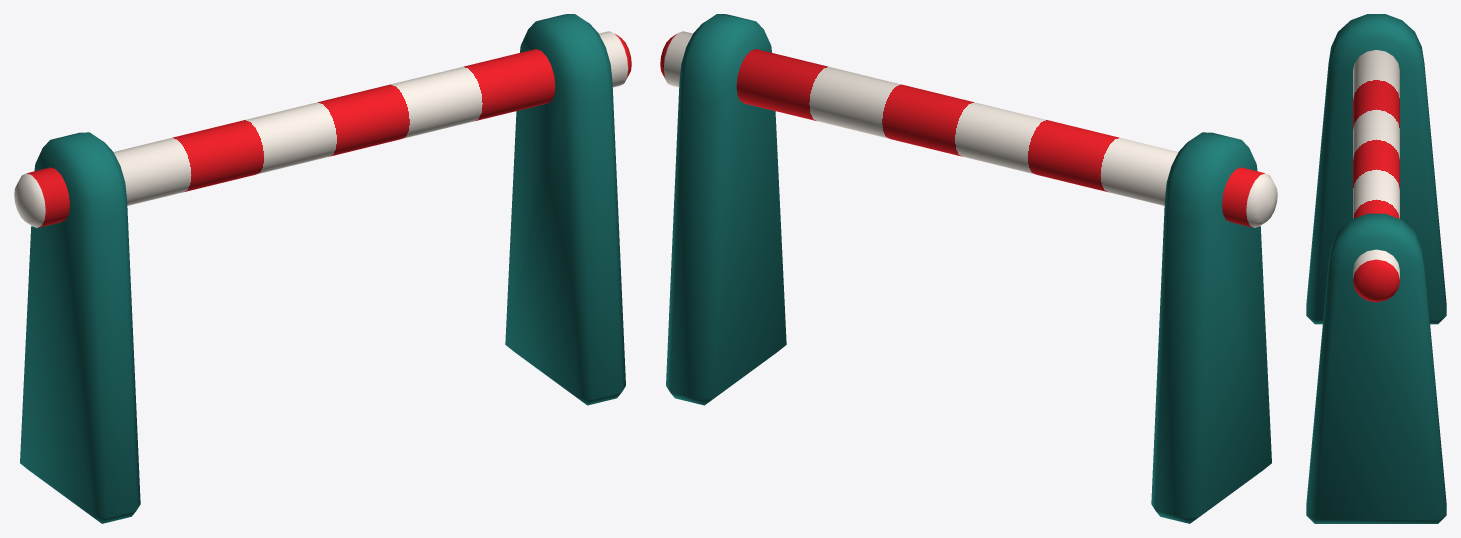
The model's file is hurdle.glb.
3 renders of one model, left to right at view 1: azimuth 30°, elevation 25°; view 2: azimuth 150°, elevation 25°; view 3: azimuth 270°, elevation 25°, orthographic. The views are drawn at different scales.
Parts seen in each view (by area): view 1: Object_2; view 2: Object_2; view 3: Object_2.
Part boxes in pixels (x1,y1,x2,y2): Object_2: [14, 14, 631, 523]; Object_2: [660, 14, 1277, 523]; Object_2: [1306, 14, 1446, 523].
Size of the model in its own units: 12.5 by 6.96 by 2.97.
1 material, 1 textured.
